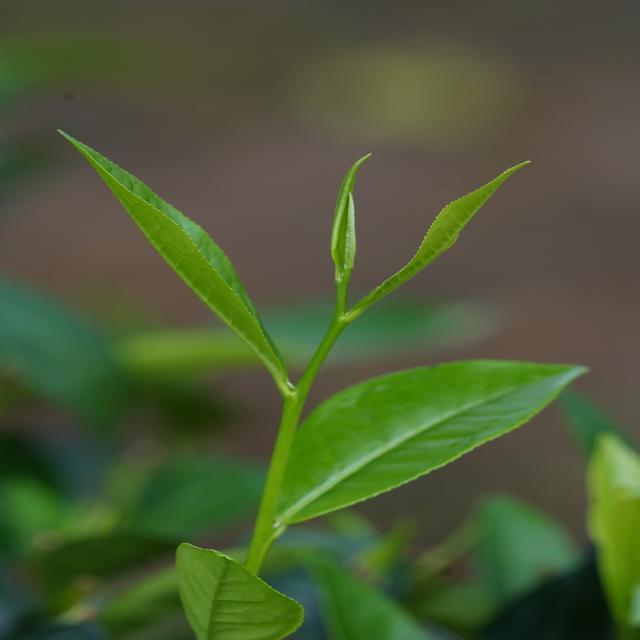Stem: (326, 318, 348, 338)
